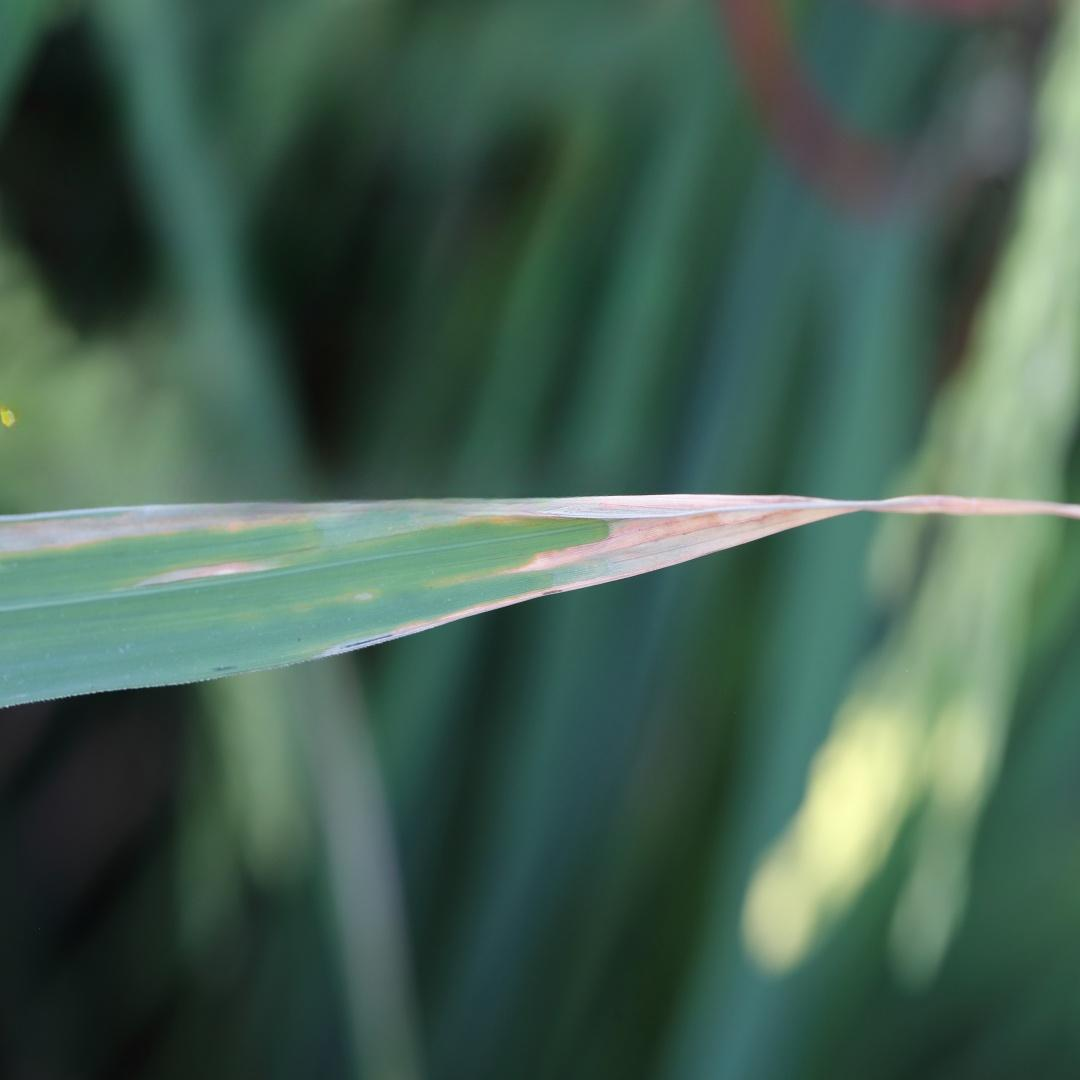BLB: (0, 496, 1077, 638)
LEAF: (0, 495, 1079, 706)
